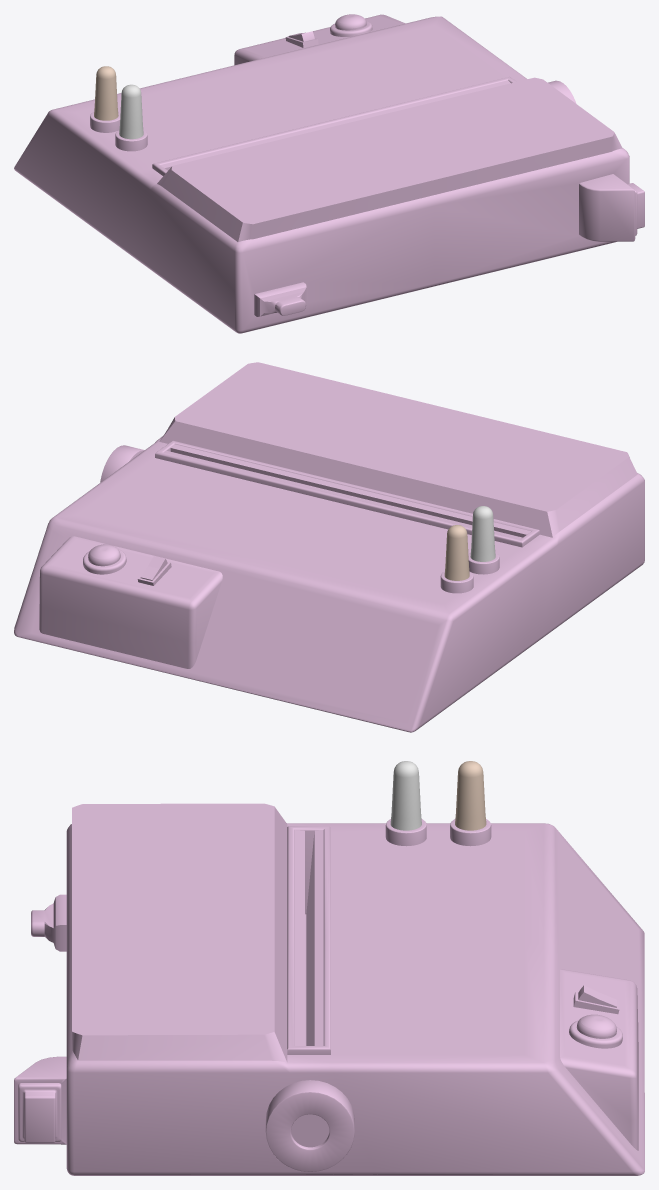
Rendered from Printer.fbx.
3 renders of one model, top to bottom at view 1: azimuth 30°, elevation 25°; view 2: azimuth 150°, elevation 25°; view 3: azimuth 270°, elevation 25°, orthographic. The views are drawn at different scales.
Visible parts, largest first — view 1: NurbsPath.003; view 2: NurbsPath.003, NurbsPath.001, Cube.010; view 3: NurbsPath.003, Cube.010, NurbsPath.001.
Part boxes in pixels (bbox=[...]): NurbsPath.003: bbox=[14, 14, 644, 333]; NurbsPath.003: bbox=[14, 362, 644, 732]; NurbsPath.001: bbox=[88, 544, 120, 566]; Cube.010: bbox=[137, 556, 171, 585]; NurbsPath.003: bbox=[14, 761, 644, 1175]; Cube.010: bbox=[573, 985, 619, 1014]; NurbsPath.001: bbox=[576, 1014, 616, 1038].
Size of the model in its own units: 88.08 by 29.3 by 89.58.
